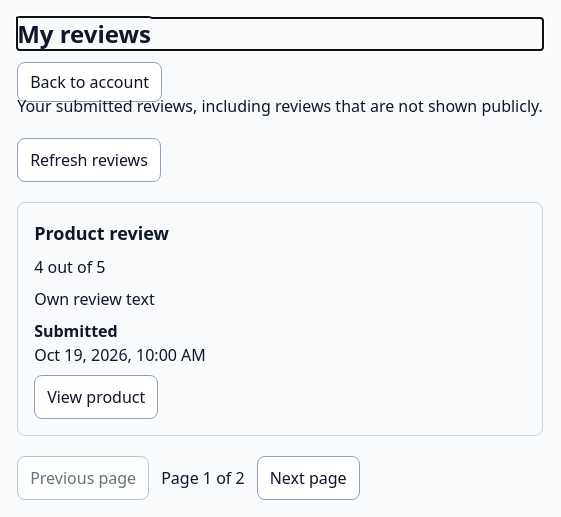
Test case: F-1402 My reviews › pages using server metadata and resets private data between pages
Expected: the text "Own review text" is shown, [34,288,155,310]
Click the button "Next page" at coordinates (308, 478), box [257,456,360,500]
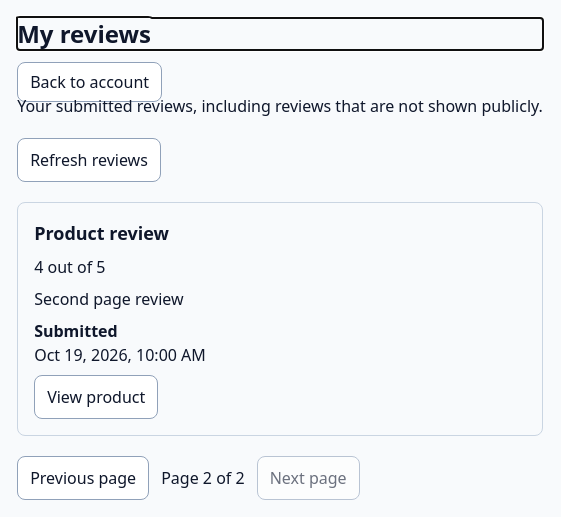
Expected: the text "Second page review" is shown, [34,288,184,310]
Expected: the text "Own review text" is gone
Expected: the text "Page 2 of 2" is shown, [161,466,245,490]
